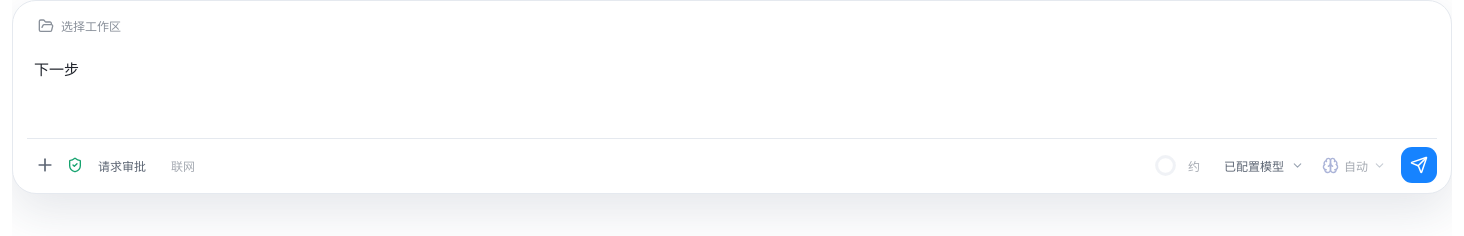
Test: running submission menu closes when sending becomes blocked
The image size is (1464, 236).
Click the button named "提交下一条": (1419, 165) [1401,147,1437,183]
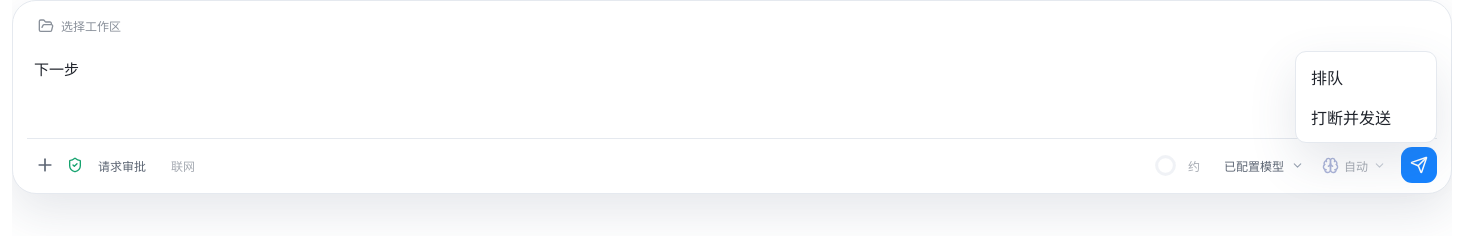
Expected: the menu named "运行中提交方式" is shown, [1295,51,1437,143]
